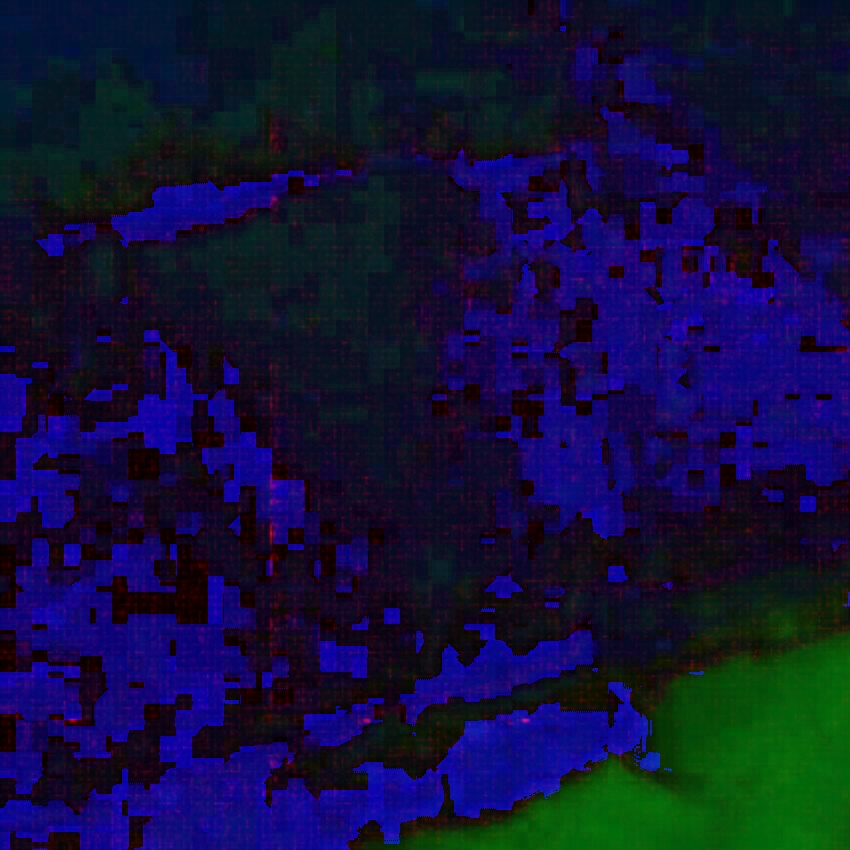rip_current: (97, 68, 606, 611)
